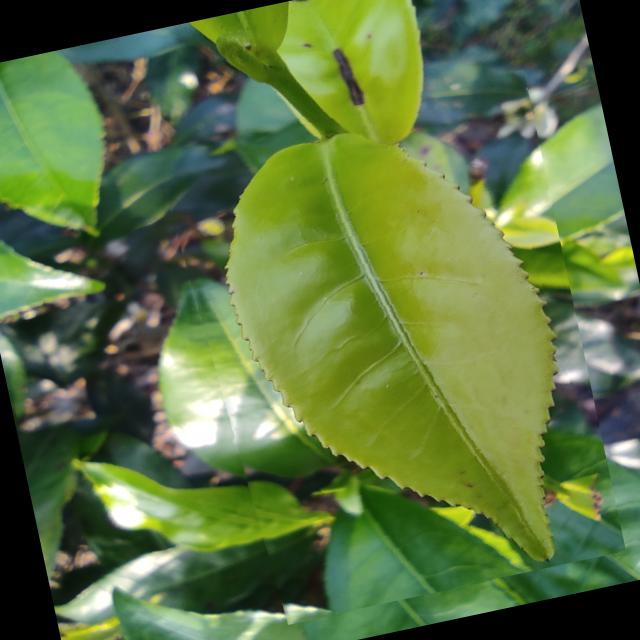Category B(2-4 days): (152, 69, 626, 630)
